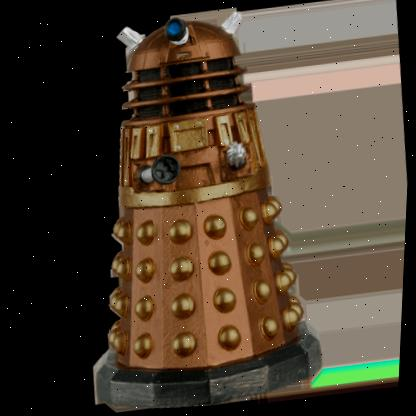dalek: (56, 0, 340, 414)
